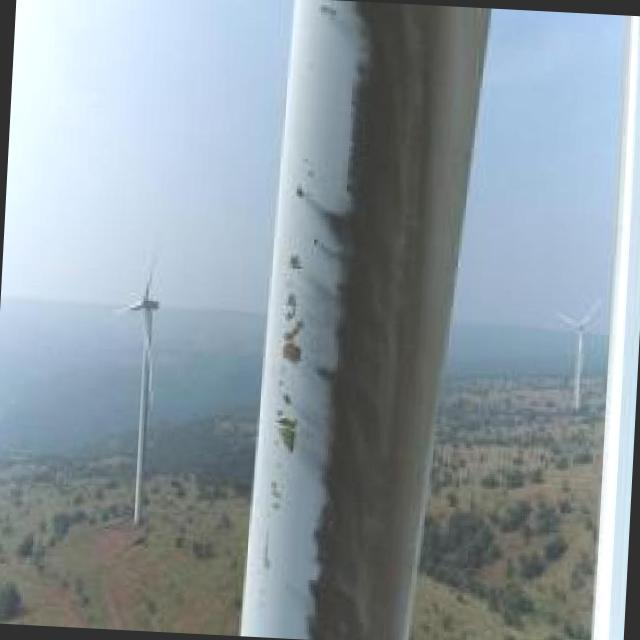Dirt: (312, 0, 488, 640), (260, 168, 314, 574)
